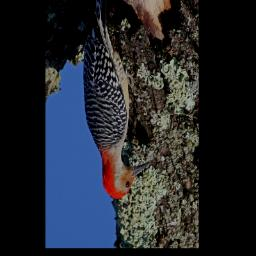Woodpecker: (82, 0, 150, 201)
